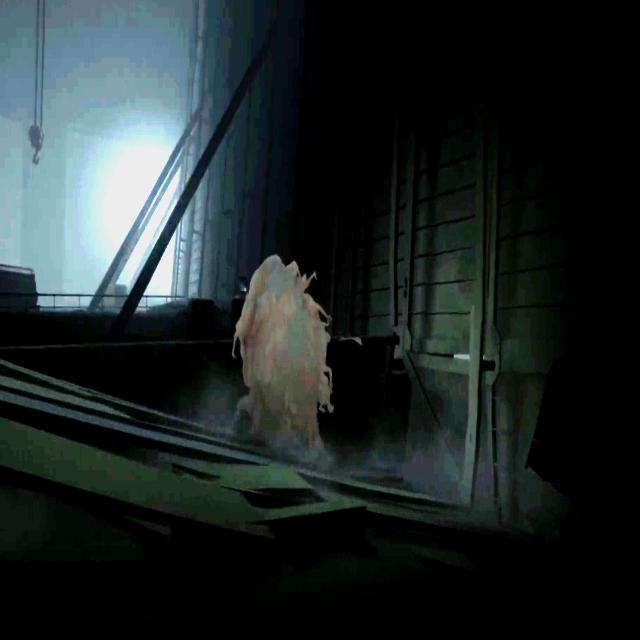blob: (232, 253, 334, 469)
